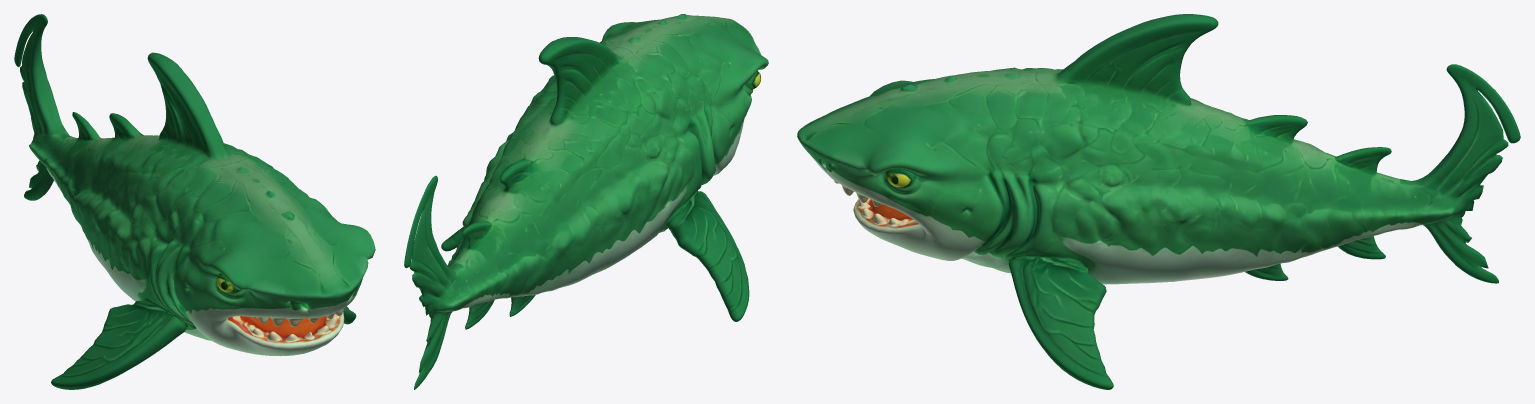
Rendered from shark-hyper3d-pbr.glb.
3 views of the same model, side by side, from view 1: azimuth 30°, elevation 25°; view 2: azimuth 150°, elevation 25°; view 3: azimuth 270°, elevation 25° (orthographic). The views are drawn at different scales.
Visible parts, largest first — view 1: model; view 2: model; view 3: model.
Part boxes in pixels (x1=…): model: x1=14, y1=14, x2=375, y2=389; model: x1=404, y1=14, x2=768, y2=389; model: x1=797, y1=14, x2=1520, y2=389.
Size of the model in its own units: 0.9965 by 0.8563 by 1.9.
Materials: 1 (1 with a texture image).
